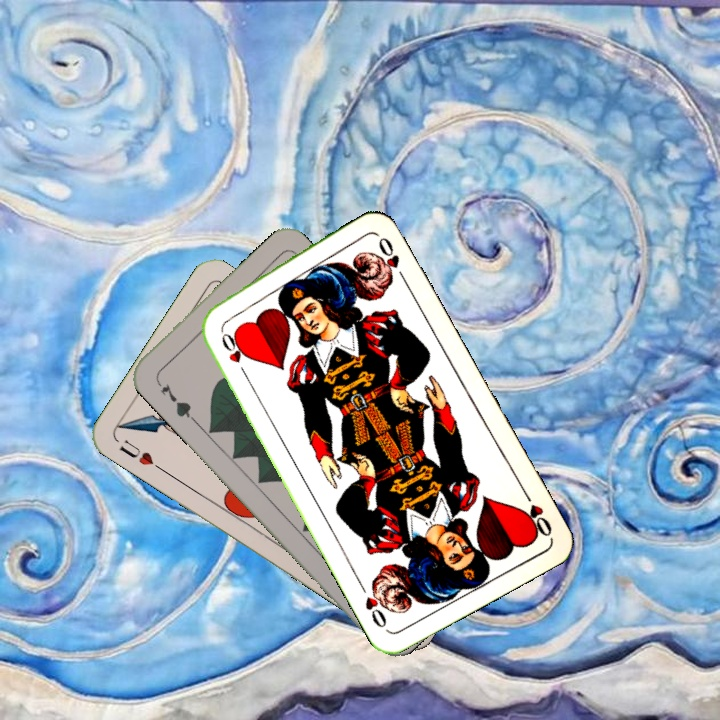G7: (152, 375, 197, 423)
HO: (518, 486, 555, 540), (216, 321, 251, 377)
HU: (115, 435, 165, 473)
